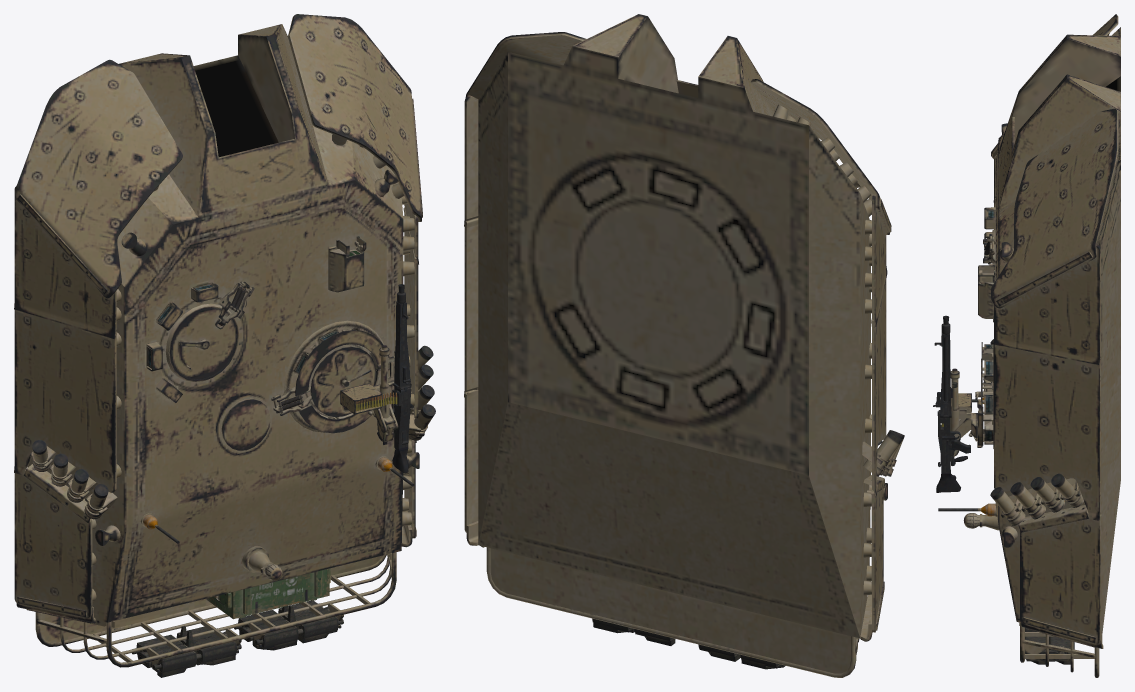
The model's file is Turret_01.glb.
The picture shows the model from 3 angles, left to right: view 1: azimuth 30°, elevation 25°; view 2: azimuth 150°, elevation 25°; view 3: azimuth 270°, elevation 25°; orthographic projection. The views are drawn at different scales.
Parts seen in each view (by area): view 1: set_0_group_0; view 2: set_0_group_0; view 3: set_0_group_0.
Part boxes in pixels (x1,y1,x2,y2): set_0_group_0: (14,14,435,677); set_0_group_0: (464,14,904,677); set_0_group_0: (933,14,1120,677).
Size of the model in its own units: 2.78 by 3.95 by 1.19.
Materials: 1 (1 with a texture image).
